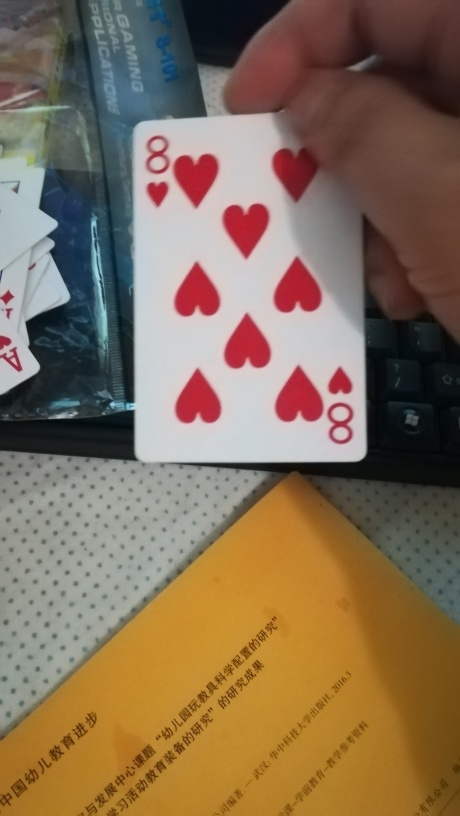hx 8: (130, 105, 369, 467)
